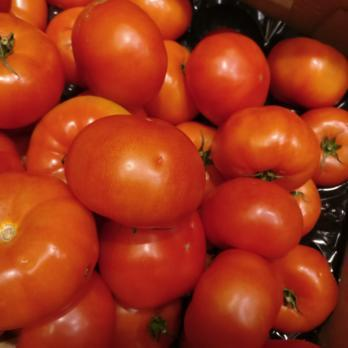Tomato: (1, 1, 343, 348)
